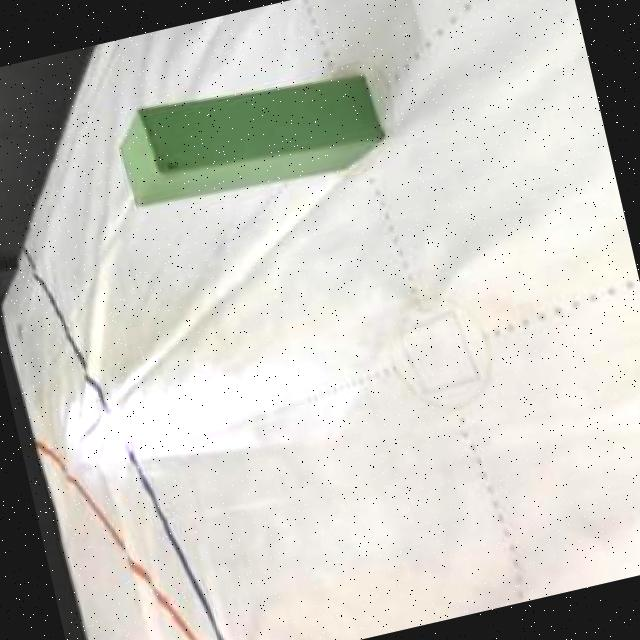greenbox: (108, 52, 394, 218)
